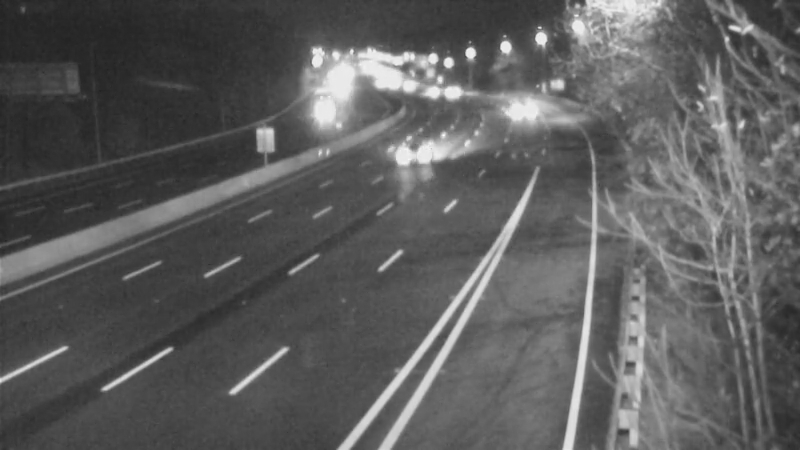vehicle: (373, 117, 453, 197), (425, 68, 475, 118), (397, 67, 447, 117), (500, 87, 550, 137), (304, 85, 354, 135)
